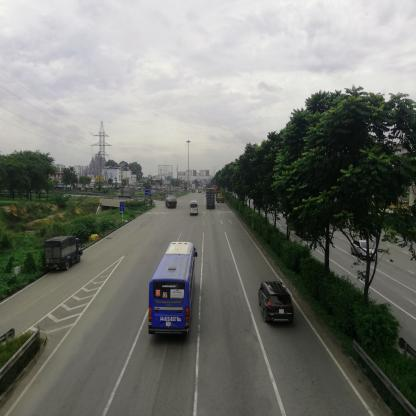bus: (150, 238, 195, 335)
car: (261, 280, 293, 324), (352, 242, 367, 257), (191, 203, 198, 217)
container: (208, 190, 215, 207)
truck: (47, 235, 83, 270), (119, 189, 136, 199), (166, 196, 178, 208)
